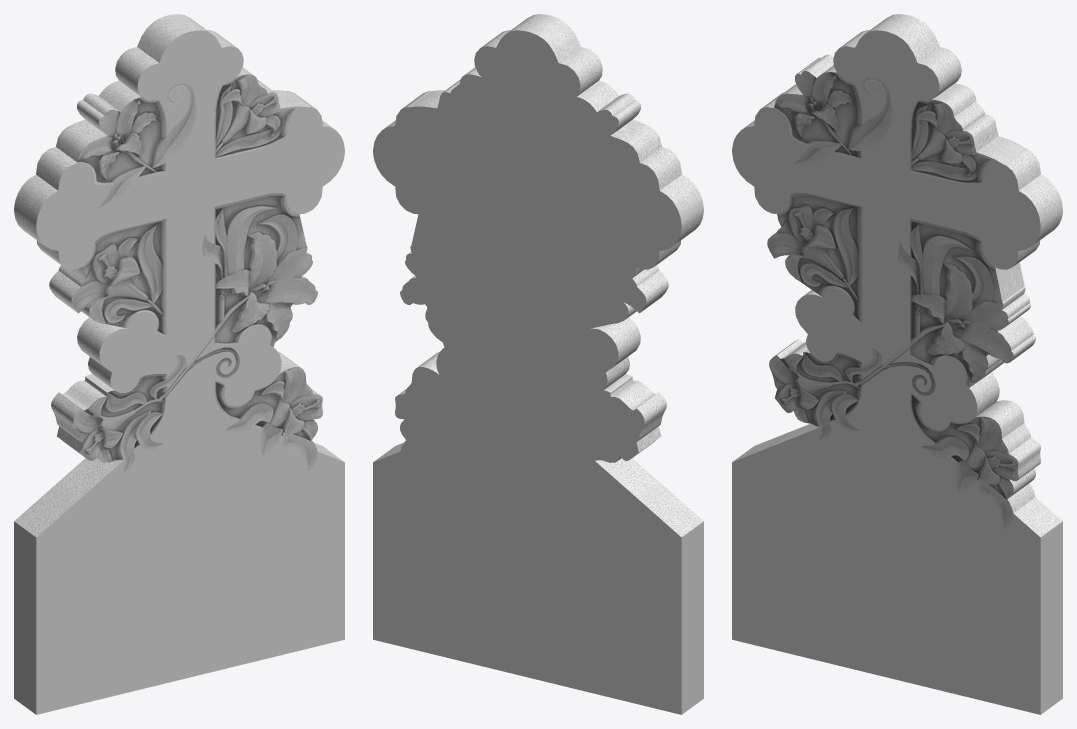
File: cn0609ecd6ba_tkf.glb
3 renders of one model, left to right at view 1: azimuth 30°, elevation 25°; view 2: azimuth 150°, elevation 25°; view 3: azimuth 330°, elevation 25°, orthographic.
Parts seen in each view (by area): view 1: Pam-d01-095, Pam-d01-095_2_notexture; view 2: Pam-d01-095, Pam-d01-095_2_notexture; view 3: Pam-d01-095, Pam-d01-095_2_notexture.
Boxes of the visible parts, box(x1,y1,x2,y2) form: Pam-d01-095: box(14, 30, 344, 714); Pam-d01-095_2_notexture: box(14, 14, 343, 537); Pam-d01-095: box(373, 30, 703, 714); Pam-d01-095_2_notexture: box(374, 14, 703, 537); Pam-d01-095: box(732, 30, 1062, 714); Pam-d01-095_2_notexture: box(733, 14, 1062, 537).
Bounding box in the file's own units: 0.4 × 0.8 × 0.05.
1 material, 1 textured.
